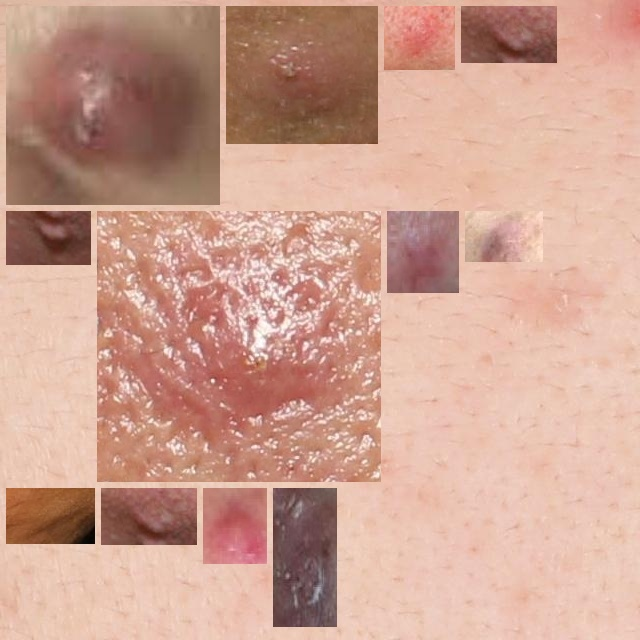nodule: (105, 219, 373, 474), (14, 14, 212, 197), (234, 14, 370, 136), (281, 496, 329, 619), (395, 219, 451, 285), (469, 14, 549, 55), (109, 496, 189, 537), (14, 496, 87, 536), (211, 496, 259, 556), (473, 219, 535, 262), (392, 14, 447, 62), (14, 219, 83, 257)
